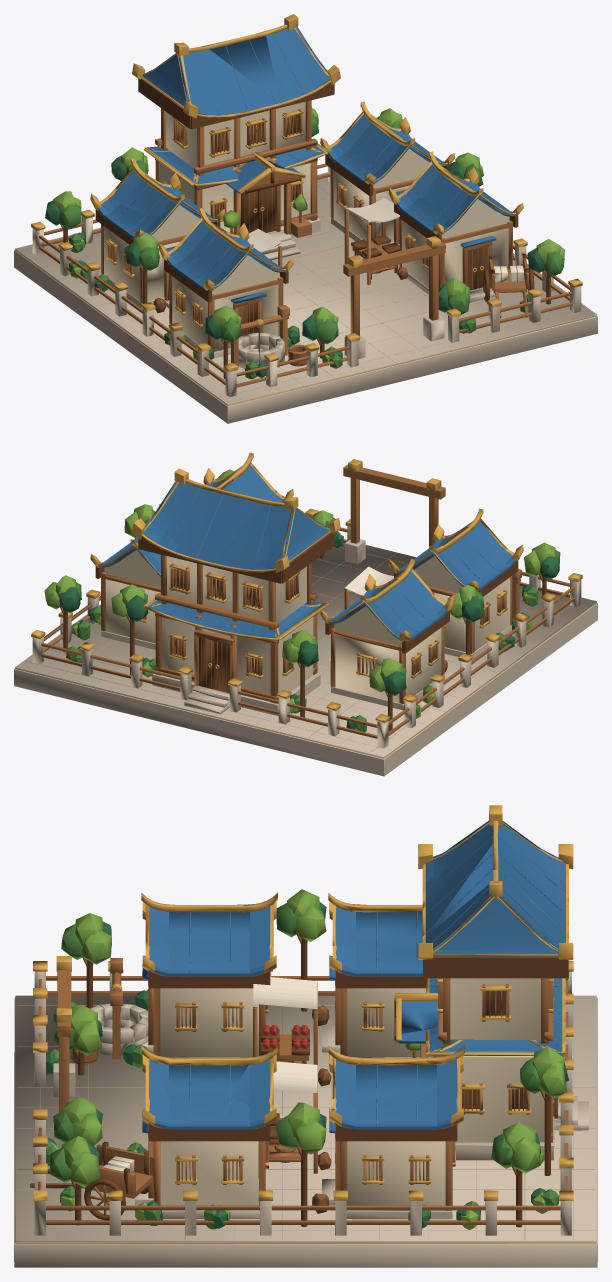
The model's file is city-3-lod1-ad2d7104b5be.glb.
3 renders of one model, top to bottom at view 1: azimuth 30°, elevation 25°; view 2: azimuth 150°, elevation 25°; view 3: azimuth 270°, elevation 25°, orthographic. The views are drawn at different scales.
Visible parts, largest first — view 1: SM_CT3_V4_Batch_0.003, SM_CT3_V4_Batch_45.003, SM_CT3_V4_Batch_88.003, SM_CT3_V4_Batch_44.003, SM_CT3_V4_Batch_89.003, SM_CT3_V4_Batch_98.003, SM_CT3_V4_Batch_131.003, SM_CT3_V4_Batch_86.003, SM_CT3_V4_Batch_133.003, SM_CT3_V4_Batch_113.003, SM_CT3_V4_Batch_3.003, SM_CT3_V4_Batch_1.003 (+1 smaller); view 2: SM_CT3_V4_Batch_0.003, SM_CT3_V4_Batch_45.003, SM_CT3_V4_Batch_88.003, SM_CT3_V4_Batch_44.003, SM_CT3_V4_Batch_89.003, SM_CT3_V4_Batch_98.003, SM_CT3_V4_Batch_86.003, SM_CT3_V4_Batch_133.003, SM_CT3_V4_Batch_131.003, SM_CT3_V4_Batch_3.003, SM_CT3_V4_Batch_1.003, SM_CT3_V4_Batch_46.003 (+1 smaller); view 3: SM_CT3_V4_Batch_0.003, SM_CT3_V4_Batch_45.003, SM_CT3_V4_Batch_44.003, SM_CT3_V4_Batch_88.003, SM_CT3_V4_Batch_89.003, SM_CT3_V4_Batch_98.003, SM_CT3_V4_Batch_86.003, SM_CT3_V4_Batch_131.003, SM_CT3_V4_Batch_113.003, SM_CT3_V4_Batch_3.003, SM_CT3_V4_Batch_133.003, SM_CT3_V4_Batch_46.003 (+3 smaller).
Boxes of the visible parts, box(x1,y1,x2,y2) form: SM_CT3_V4_Batch_0.003: box(14, 166, 597, 423); SM_CT3_V4_Batch_45.003: box(98, 27, 515, 303); SM_CT3_V4_Batch_88.003: box(39, 100, 572, 387); SM_CT3_V4_Batch_44.003: box(104, 101, 509, 351); SM_CT3_V4_Batch_89.003: box(31, 14, 582, 371); SM_CT3_V4_Batch_98.003: box(63, 78, 550, 378); SM_CT3_V4_Batch_131.003: box(59, 115, 564, 379); SM_CT3_V4_Batch_86.003: box(53, 106, 564, 376); SM_CT3_V4_Batch_133.003: box(45, 116, 544, 377); SM_CT3_V4_Batch_113.003: box(247, 198, 523, 282); SM_CT3_V4_Batch_3.003: box(25, 180, 585, 399); SM_CT3_V4_Batch_1.003: box(15, 249, 596, 405); SM_CT3_V4_Batch_0.003: box(14, 517, 597, 776); SM_CT3_V4_Batch_45.003: box(98, 465, 515, 640); SM_CT3_V4_Batch_88.003: box(41, 464, 574, 738); SM_CT3_V4_Batch_44.003: box(104, 550, 510, 702); SM_CT3_V4_Batch_89.003: box(31, 452, 582, 723); SM_CT3_V4_Batch_98.003: box(63, 533, 546, 731); SM_CT3_V4_Batch_86.003: box(44, 469, 556, 730); SM_CT3_V4_Batch_133.003: box(59, 517, 559, 729); SM_CT3_V4_Batch_131.003: box(66, 510, 560, 732); SM_CT3_V4_Batch_3.003: box(25, 547, 585, 752); SM_CT3_V4_Batch_1.003: box(15, 602, 596, 758); SM_CT3_V4_Batch_46.003: box(111, 480, 502, 635); SM_CT3_V4_Batch_0.003: box(14, 971, 597, 1267); SM_CT3_V4_Batch_45.003: box(142, 820, 565, 1133); SM_CT3_V4_Batch_44.003: box(160, 978, 544, 1210); SM_CT3_V4_Batch_88.003: box(30, 934, 568, 1224); SM_CT3_V4_Batch_89.003: box(33, 805, 573, 1200); SM_CT3_V4_Batch_98.003: box(70, 937, 568, 1227); SM_CT3_V4_Batch_86.003: box(50, 889, 568, 1229); SM_CT3_V4_Batch_131.003: box(46, 903, 558, 1229); SM_CT3_V4_Batch_113.003: box(103, 977, 317, 1173); SM_CT3_V4_Batch_3.003: box(17, 996, 594, 1240); SM_CT3_V4_Batch_133.003: box(46, 902, 568, 1228); SM_CT3_V4_Batch_46.003: box(189, 836, 565, 1126).
Bounding box in the file's own units: 10 × 5.66 × 10.
Materials: 16 (4 with a texture image).
